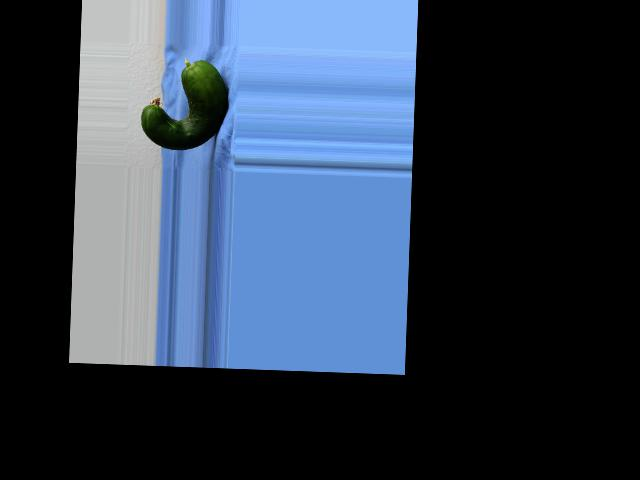cucumber: (140, 57, 229, 151)
